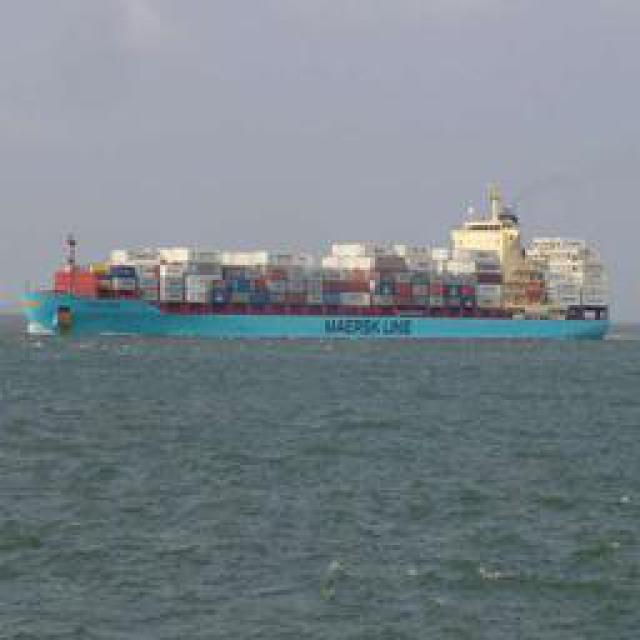Ship: (22, 217, 615, 335)
